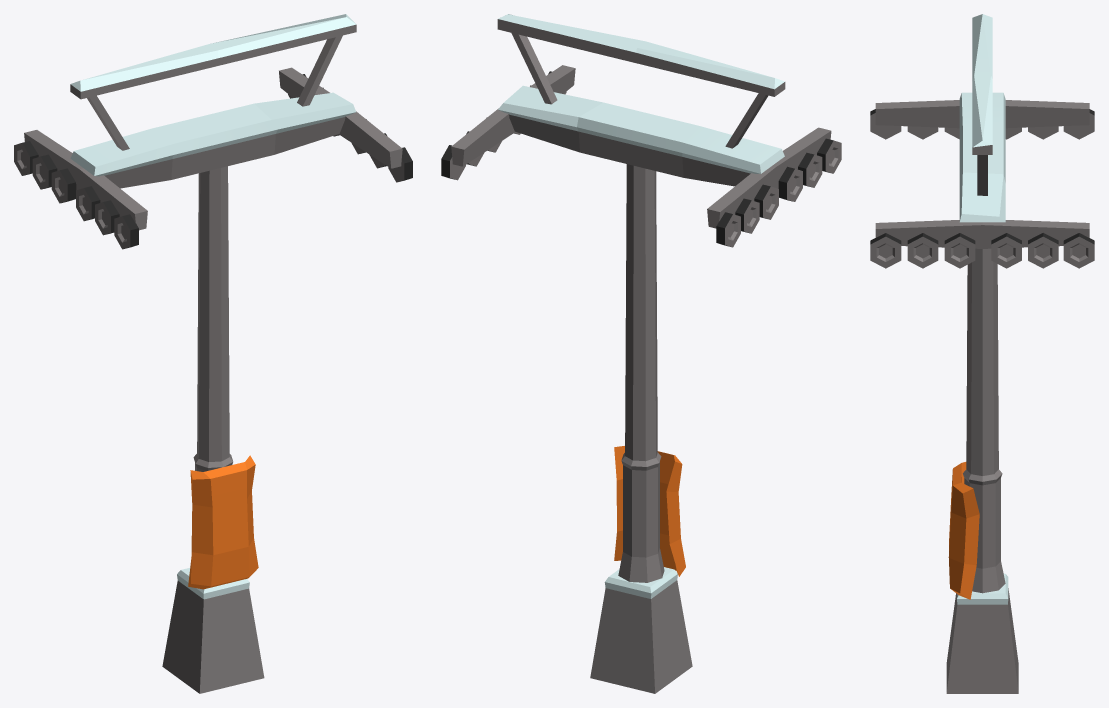
Rendered from sport_ski-lift-stake.fbx.
The picture shows the model from 3 angles, left to right: view 1: azimuth 30°, elevation 25°; view 2: azimuth 150°, elevation 25°; view 3: azimuth 270°, elevation 25°; orthographic projection. The views are drawn at different scales.
Visible parts, largest first — view 1: sport_ski_lift_stake; view 2: sport_ski_lift_stake; view 3: sport_ski_lift_stake.
Boxes of the visible parts, box(x1,y1,x2,y2) form: sport_ski_lift_stake: box(14, 14, 412, 693); sport_ski_lift_stake: box(441, 14, 841, 693); sport_ski_lift_stake: box(870, 14, 1094, 693).
Size of the model in its own units: 94.65 by 200 by 67.36.
